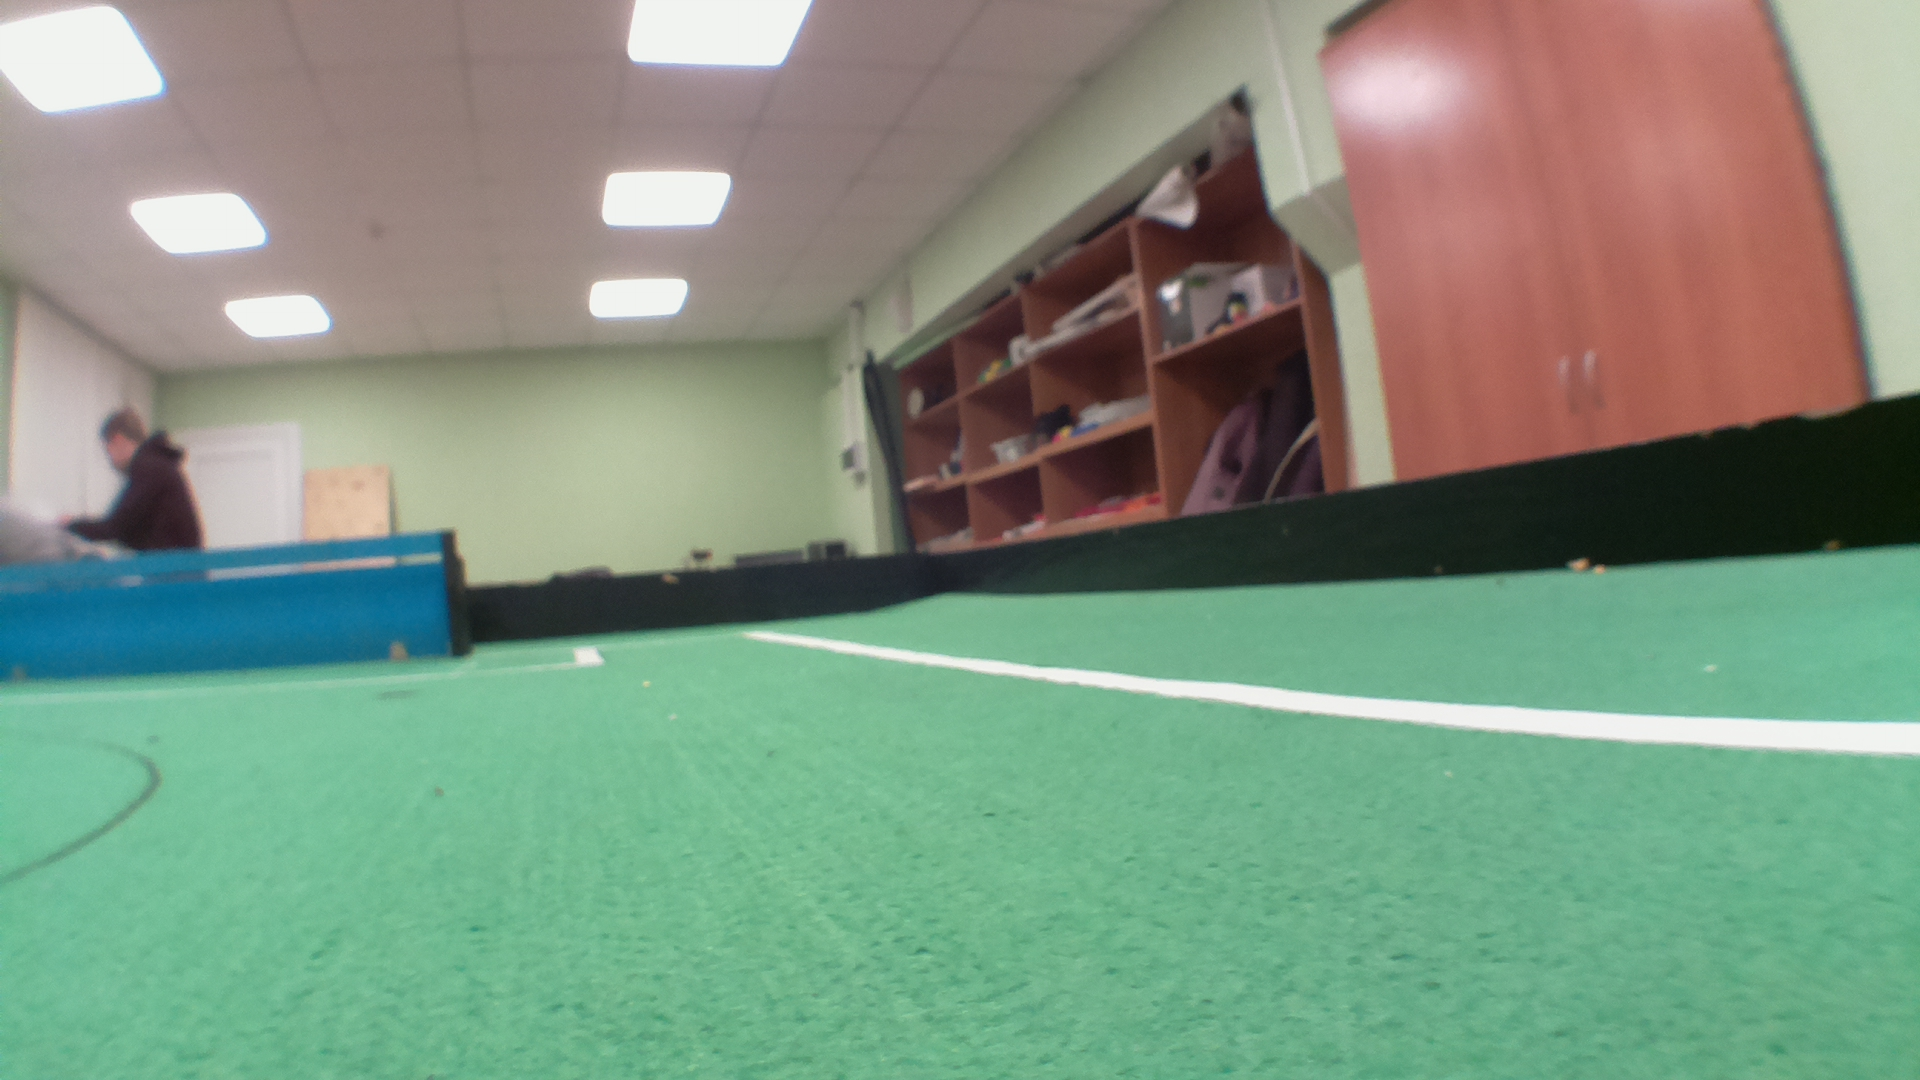BlueGoal: (1, 530, 448, 682)
